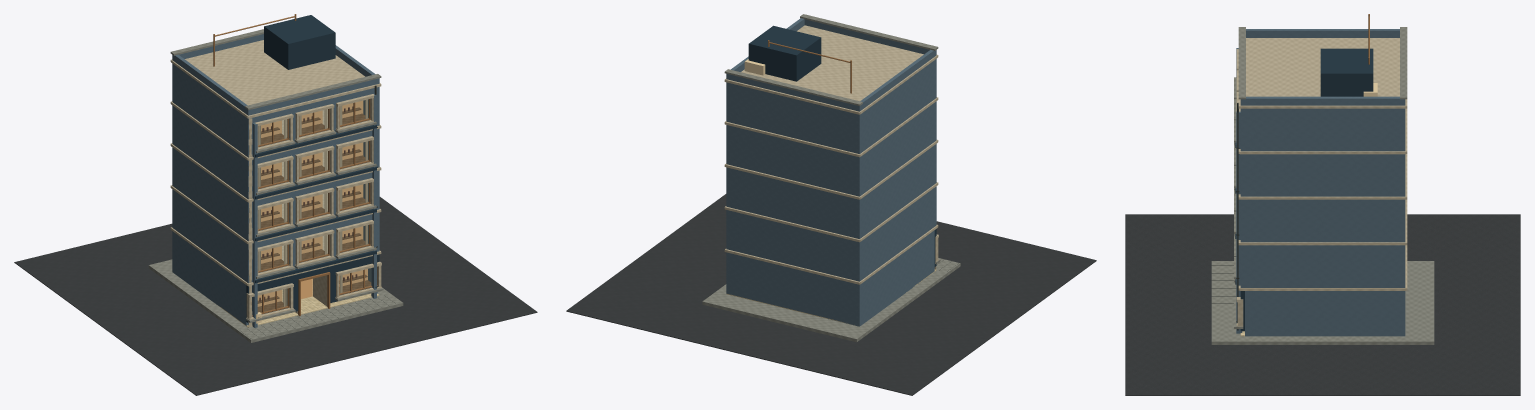
Rendered from blue-office.glb.
The picture shows the model from 3 angles, left to right: view 1: azimuth 30°, elevation 25°; view 2: azimuth 150°, elevation 25°; view 3: azimuth 270°, elevation 25°; orthographic projection. The views are drawn at different scales.
Visible parts, largest first — view 1: Street asphalt, Architecture blue-concrete, Architecture plaster, Glass glass, Architecture navy-panel, Windows plaster, Street stone, Interiors room-wall, Interiors wood, Windows bronze-frame, Windows stone, Interiors curtain (+2 smaller); view 2: Architecture blue-concrete, Street asphalt, Architecture plaster, Street stone, Architecture navy-panel, Architecture stone; view 3: Street asphalt, Architecture blue-concrete, Architecture plaster, Street stone, Architecture navy-panel, Architecture stone, Windows stone, Props iron, Windows plaster.
Boxes of the visible parts, box(x1,y1,x2,y2) form: Street asphalt: box(14, 197, 537, 395); Architecture blue-concrete: box(172, 34, 379, 327); Architecture plaster: box(170, 40, 381, 327); Glass glass: box(258, 99, 371, 312); Architecture navy-panel: box(246, 15, 379, 323); Windows plaster: box(246, 94, 381, 319); Street stone: box(148, 259, 403, 342); Interiors room-wall: box(251, 100, 367, 306); Interiors wood: box(251, 107, 371, 312); Windows bronze-frame: box(252, 99, 377, 316); Windows stone: box(246, 121, 383, 322); Interiors curtain: box(258, 99, 367, 306); Architecture blue-concrete: box(726, 18, 936, 326); Street asphalt: box(566, 194, 1096, 395); Architecture plaster: box(724, 25, 938, 284); Street stone: box(702, 258, 960, 342); Architecture navy-panel: box(748, 25, 936, 266); Architecture stone: box(724, 14, 938, 105); Street asphalt: box(1125, 214, 1520, 395); Architecture blue-concrete: box(1236, 29, 1405, 336); Architecture plaster: box(1238, 38, 1407, 290); Street stone: box(1211, 261, 1434, 344); Architecture navy-panel: box(1235, 48, 1373, 331); Architecture stone: box(1238, 27, 1407, 99); Windows stone: box(1234, 77, 1243, 328); Props iron: box(1237, 94, 1363, 330); Windows plaster: box(1236, 49, 1243, 326).
Bounding box in the file's own units: 26 × 18.05 × 24.
Materials: 15 (6 with a texture image).
